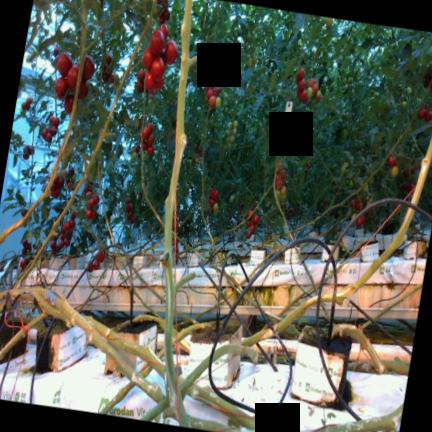6kp_petiole: (80, 37, 98, 65)
MainStem: (18, 0, 157, 288), (0, 0, 86, 245), (162, 0, 192, 428), (411, 136, 432, 206)
tomato: (150, 29, 165, 55), (57, 52, 72, 77), (66, 65, 79, 91), (150, 57, 164, 81), (82, 55, 95, 80), (165, 40, 178, 64), (55, 76, 68, 100), (143, 47, 155, 70), (145, 71, 156, 91), (64, 94, 74, 114), (78, 80, 89, 98), (154, 76, 164, 91), (298, 89, 308, 103), (297, 78, 305, 94), (160, 24, 168, 39), (296, 68, 304, 83), (388, 155, 396, 168), (138, 68, 145, 82), (142, 127, 150, 139), (312, 83, 319, 96), (209, 95, 216, 107), (315, 90, 322, 102), (147, 134, 154, 146), (212, 189, 219, 201), (391, 165, 398, 177), (215, 96, 221, 109), (137, 81, 144, 92), (45, 132, 52, 143), (41, 128, 48, 139), (50, 125, 57, 136), (207, 89, 214, 99), (53, 117, 60, 127), (147, 146, 154, 156), (307, 87, 313, 98), (253, 214, 259, 225), (275, 179, 282, 188), (147, 123, 153, 133), (280, 185, 286, 195), (206, 80, 211, 91), (213, 76, 219, 85), (214, 85, 220, 94), (252, 54, 258, 63), (308, 78, 314, 87), (281, 169, 286, 179), (247, 209, 253, 217), (247, 58, 252, 67), (49, 115, 54, 124), (142, 142, 147, 151), (210, 198, 215, 207), (251, 224, 255, 234), (229, 135, 234, 143), (213, 207, 218, 215), (227, 122, 232, 129), (233, 120, 237, 128), (232, 128, 236, 136), (210, 188, 214, 196), (246, 232, 251, 238), (213, 203, 218, 209)
